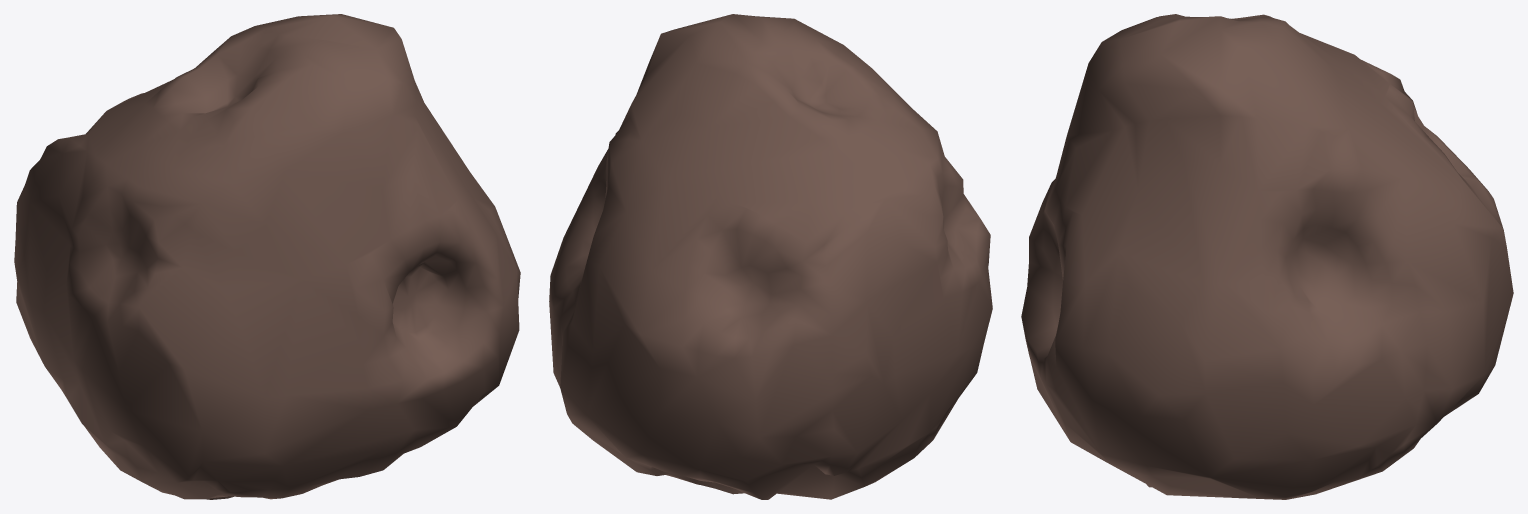
Rendered from SM_Asteroid_Medium1.fbx.
3 renders of one model, left to right at view 1: azimuth 30°, elevation 25°; view 2: azimuth 150°, elevation 25°; view 3: azimuth 270°, elevation 25°, orthographic. The views are drawn at different scales.
Visible parts, largest first — view 1: Asteroid_B; view 2: Asteroid_B; view 3: Asteroid_B.
Part boxes in pixels (x1=…): Asteroid_B: x1=14, y1=14, x2=520, y2=499; Asteroid_B: x1=549, y1=14, x2=992, y2=499; Asteroid_B: x1=1021, y1=14, x2=1513, y2=499.
Bounding box in the file's own units: 33.04 × 33.71 × 32.37.
